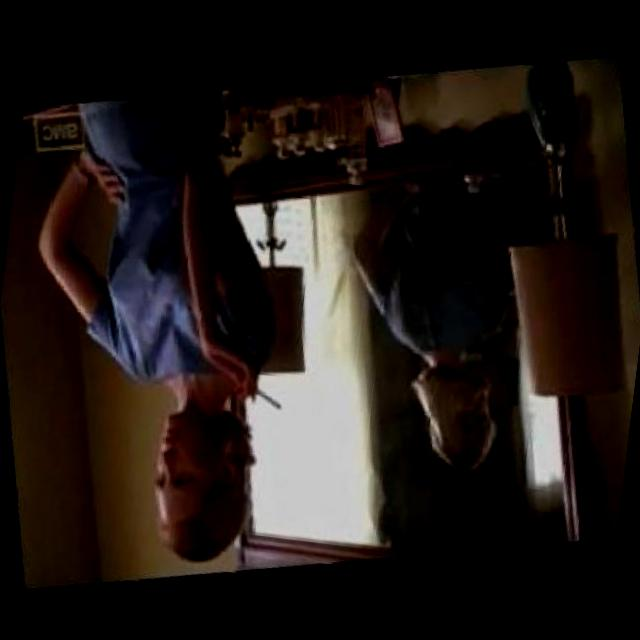smoke: (244, 376, 283, 414)
